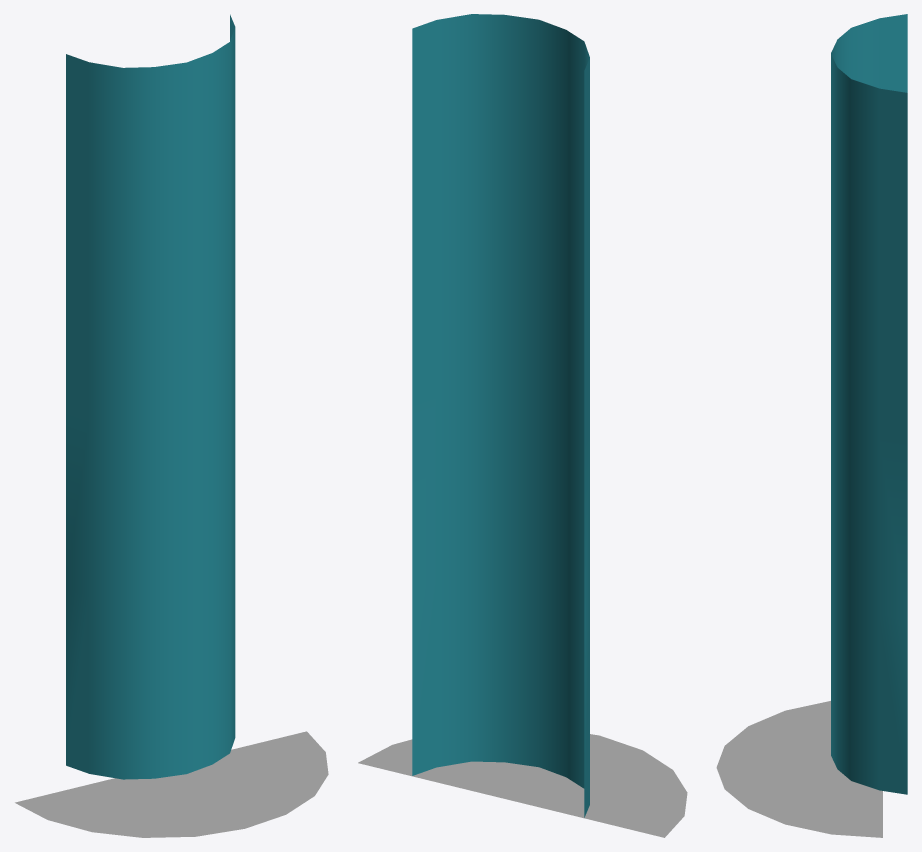
Rendered from wfbuena.fbx.
3 views of the same model, side by side, from view 1: azimuth 30°, elevation 25°; view 2: azimuth 150°, elevation 25°; view 3: azimuth 270°, elevation 25° (orthographic). The views are drawn at different scales.
Parts seen in each view (by area): view 1: watf:Cylinder030, pCylinder2, pCylinder1; view 2: watf:Cylinder030, pCylinder2, pCylinder1; view 3: watf:Cylinder030, pCylinder2, pCylinder1.
Boxes of the visible parts, bbox=[...] form: watf:Cylinder030: bbox=[66, 14, 235, 779]; pCylinder2: bbox=[15, 731, 328, 837]; pCylinder1: bbox=[60, 734, 327, 812]; watf:Cylinder030: bbox=[412, 14, 589, 817]; pCylinder2: bbox=[358, 734, 687, 837]; pCylinder1: bbox=[360, 739, 650, 806]; watf:Cylinder030: bbox=[831, 14, 907, 794]; pCylinder2: bbox=[716, 701, 882, 837]; pCylinder1: bbox=[724, 723, 843, 808].
Size of the model in its own units: 1139 by 2694 by 653.
